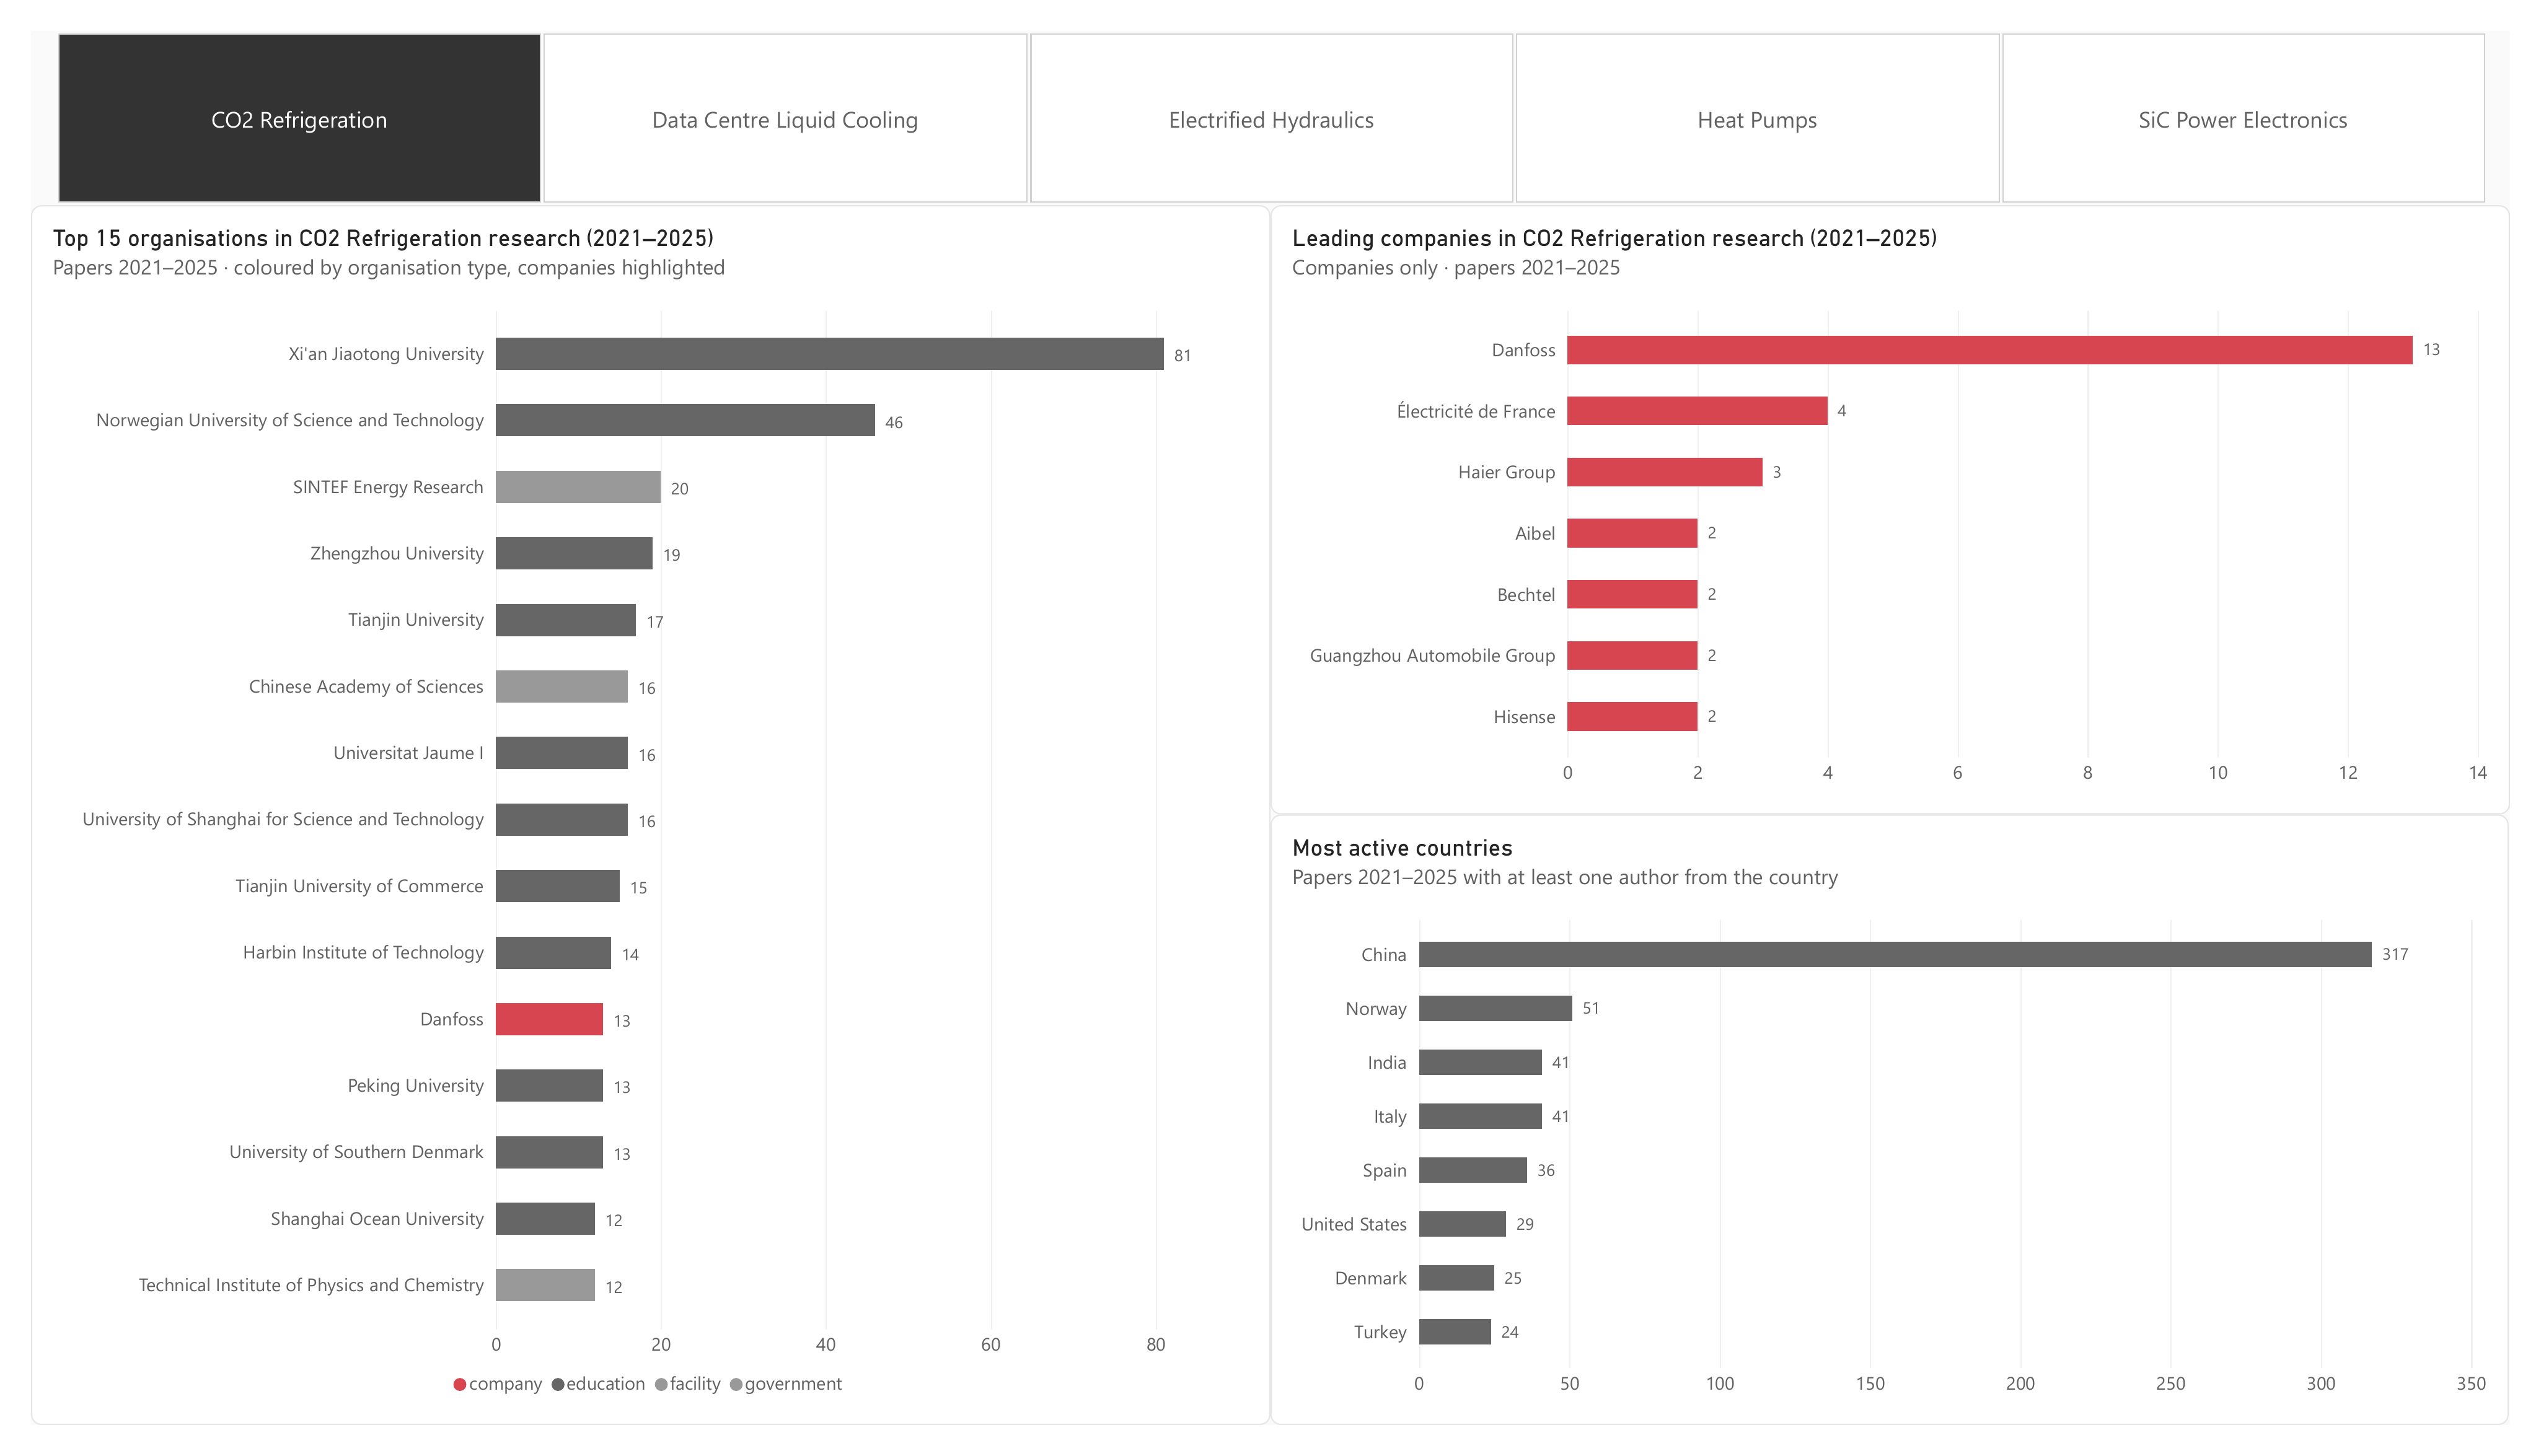

This screenshot's page, from the dashboard's own definition file:
{"tool":"powerbi","page":{"name":"Players","canvas":[1920,1080],"ordinal":2},"visuals":[{"type":"slicer","fields":{"Values":["Technology.technology"]},"box":[0,0,1920.1,135],"z":0},{"type":"barChart","fields":{"Category":["players.organisation"],"Series":["players.type"],"Y":["_Measures.Org Papers"]},"box":[0,135.4,960,944.6],"z":1000},{"type":"clusteredBarChart","fields":{"Category":["players.organisation"],"Y":["_Measures.Org Papers"]},"box":[960.3,135.4,959.3,472],"z":2000},{"type":"clusteredBarChart","title":"Most active countries","fields":{"Category":["countries.country"],"Y":["Sum(countries.papers)"]},"box":[960.3,607.2,958.4,472.8],"z":2001}]}

Visuals, with their boxes on the page's 1920x1080 design canvas (x1, y1, x2, y2). These are canvas units, not pixel positions in the 2541x1456 screenshot, which may show the page scaled, cropped or inside an application window:
slicer - Technology.technology: [x1=0, y1=0, x2=1920, y2=135]
barChart - players.organisation x players.type: [x1=0, y1=135, x2=960, y2=1080]
clusteredBarChart - players.organisation x _Measures.Org Papers: [x1=960, y1=135, x2=1920, y2=607]
"Most active countries" clusteredBarChart: [x1=960, y1=607, x2=1919, y2=1080]
